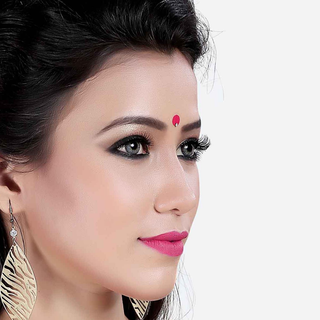eye: (104, 132, 152, 164), (173, 134, 212, 165)
